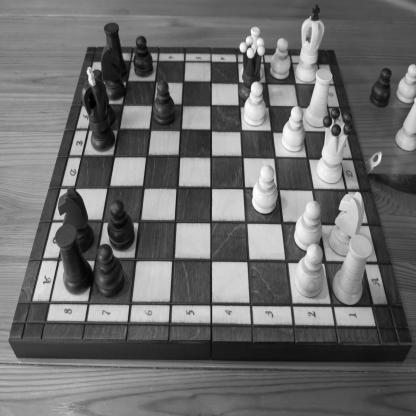black-bishop: (92, 69, 116, 128)
black-king: (80, 67, 116, 154)
black-knight: (58, 186, 93, 254), (100, 44, 126, 102)
black-pawn: (94, 242, 125, 298), (107, 198, 135, 250), (152, 79, 176, 126), (132, 36, 154, 77), (370, 67, 392, 108)
black-queen: (238, 36, 266, 102)
black-rook: (54, 224, 94, 296), (103, 22, 128, 79)
white-bishop: (241, 26, 263, 80)
white-king: (295, 3, 325, 82)
white-knight: (328, 189, 365, 256)
white-pawn: (294, 243, 324, 299), (293, 200, 323, 251), (252, 164, 278, 215), (281, 105, 306, 153), (243, 81, 266, 127), (269, 38, 291, 79), (396, 64, 415, 106)
white-queen: (316, 106, 353, 184)
white-rook: (331, 235, 372, 307), (304, 68, 333, 128)
